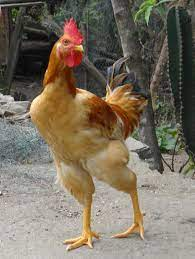Gà/Chicken: (16, 12, 173, 257)
